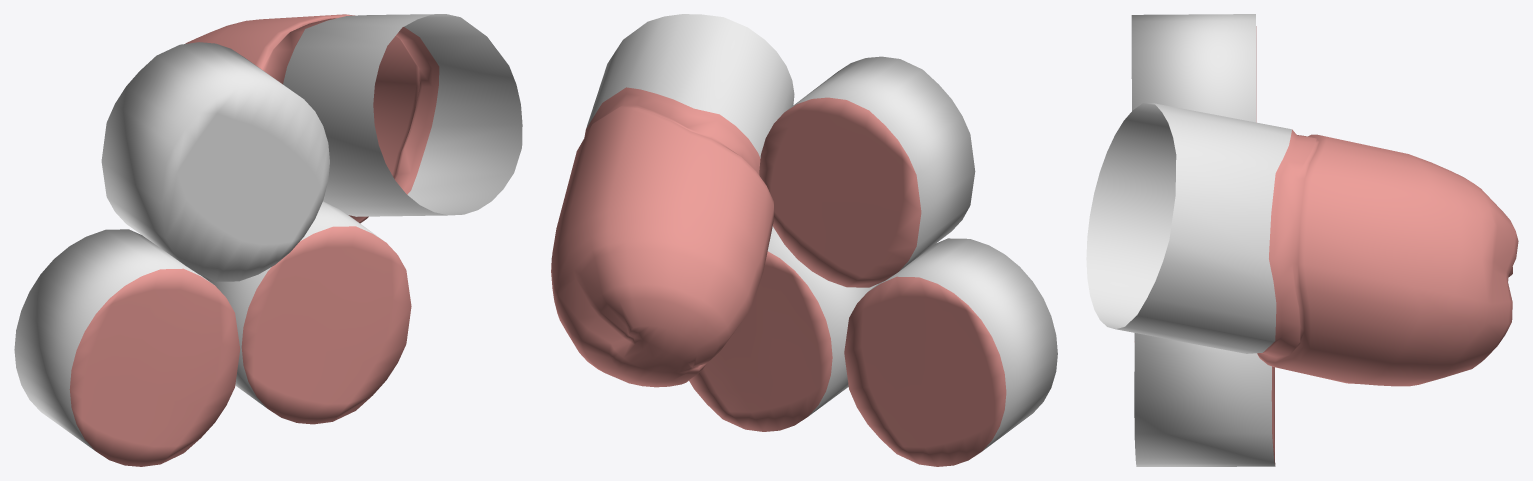
Rendered from CookedPeePee.fbx.
3 views of the same model, side by side, from view 1: azimuth 30°, elevation 25°; view 2: azimuth 150°, elevation 25°; view 3: azimuth 270°, elevation 25° (orthographic). The views are drawn at different scales.
Visible parts, largest first — view 1: CookedPeePee.004, CookedPeePee.001, CookedPeePee.002, CookedPeePee.003; view 2: CookedPeePee.004, CookedPeePee.001, CookedPeePee.002, CookedPeePee.003; view 3: CookedPeePee.004, CookedPeePee.003, CookedPeePee.001.
Boxes of the visible parts, <box> form: CookedPeePee.004: <box>185,14,522,223</box>; CookedPeePee.001: <box>101,42,329,281</box>; CookedPeePee.002: <box>14,229,240,466</box>; CookedPeePee.003: <box>201,201,411,424</box>; CookedPeePee.004: <box>551,14,794,387</box>; CookedPeePee.001: <box>759,56,975,287</box>; CookedPeePee.002: <box>844,238,1057,466</box>; CookedPeePee.003: <box>689,226,877,431</box>; CookedPeePee.004: <box>1086,103,1518,386</box>; CookedPeePee.003: <box>1134,333,1275,466</box>; CookedPeePee.001: <box>1131,14,1256,122</box>.
Bounding box in the file's own units: 19.07 × 14.69 × 14.38.
